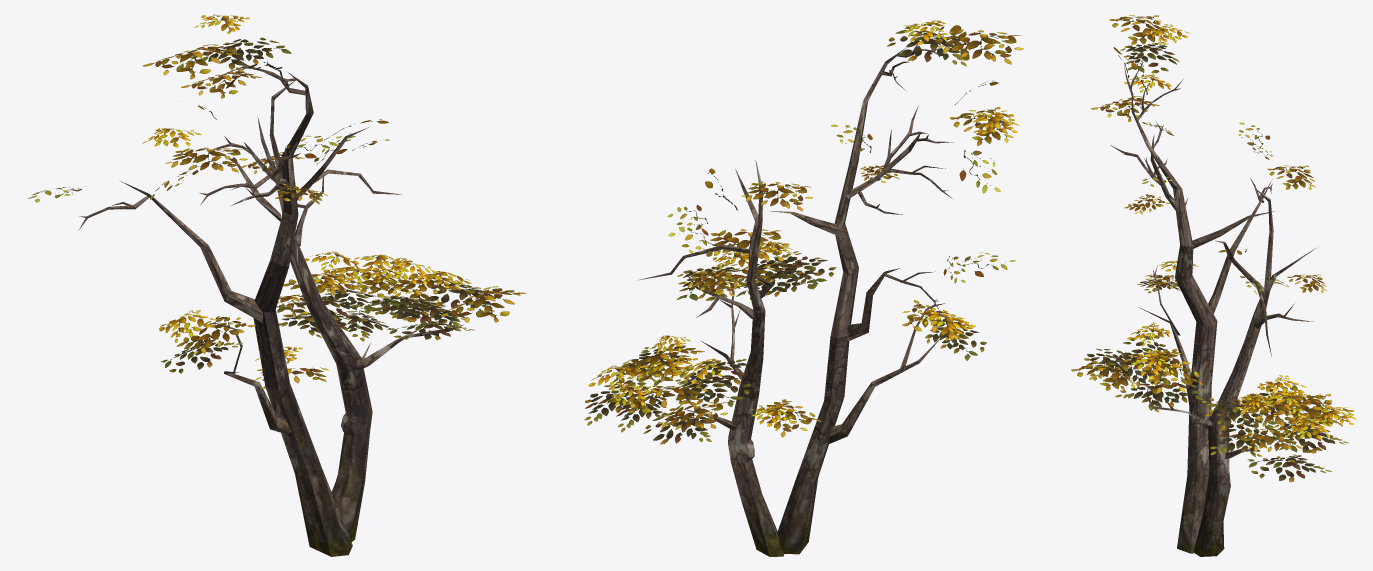
File: Old_Tree_G1.FBX
3 views of the same model, side by side, from view 1: azimuth 30°, elevation 25°; view 2: azimuth 150°, elevation 25°; view 3: azimuth 270°, elevation 25° (orthographic). The views are drawn at different scales.
Visible parts, largest first — view 1: DrawCall_0124, DrawCall_0123; view 2: DrawCall_0123, DrawCall_0124; view 3: DrawCall_0123, DrawCall_0124.
Part boxes in pixels (x1,y1,x2,y2): DrawCall_0124: (78,59,463,556); DrawCall_0123: (28,14,526,388); DrawCall_0123: (584,20,1023,444); DrawCall_0124: (638,37,953,556); DrawCall_0123: (1071,15,1356,482); DrawCall_0124: (1110,60,1315,556).
Bounding box in the file's own units: 7554 × 9206 × 5245.
